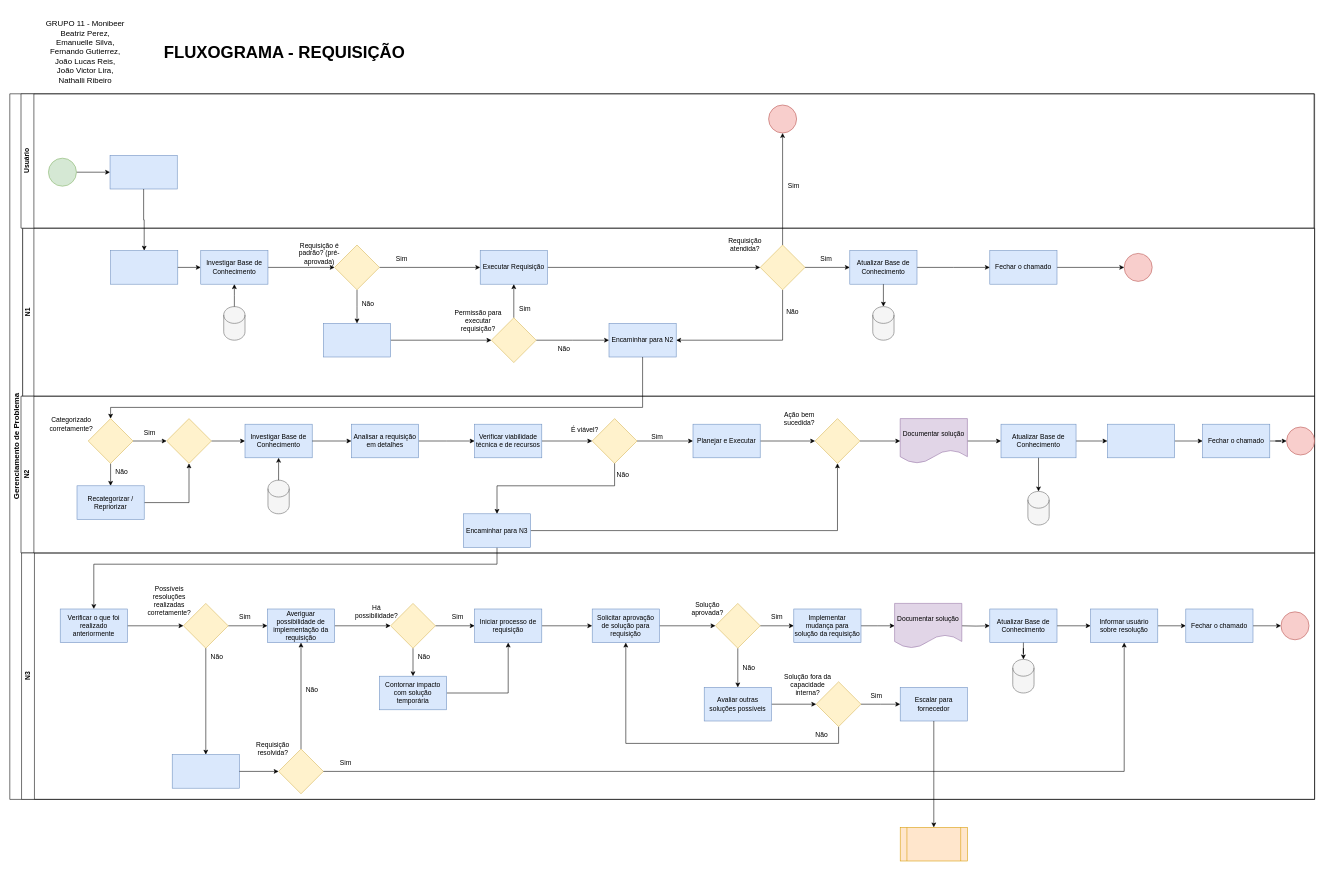
This 1324x871 diagram has some shape labels left out. The shapes that lost their labels are listed below. From the top down, each one's centre as x and y in pixels, then its label:
At pixel 143 172: "Registrar requisição".
At pixel 144 267: "Analisar e Categorizar".
At pixel 357 340: "Solicitar Aprovação".
At pixel 1141 441: "Informar o usuário sobre a resolução".
At pixel 205 771: "Testar possíveis soluções".
At pixel 933 844: "Contato com o fornecedor".
